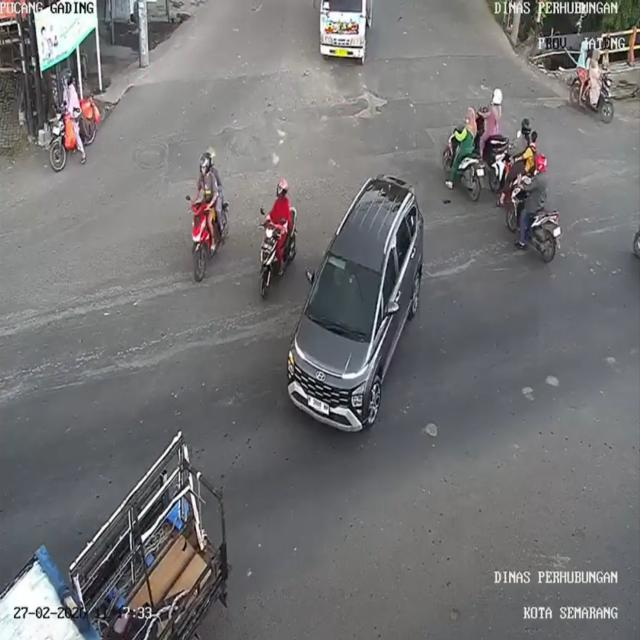motorcycle: (509, 190, 565, 265), (47, 108, 104, 170), (184, 200, 219, 286), (258, 227, 300, 292), (445, 134, 485, 200), (568, 76, 618, 127), (492, 146, 512, 195), (485, 134, 506, 162)
person: (523, 156, 553, 224), (479, 84, 510, 141), (266, 178, 293, 231), (456, 110, 483, 158), (62, 69, 87, 120), (512, 116, 534, 166), (191, 159, 214, 206), (204, 151, 223, 196), (525, 133, 542, 178), (592, 49, 602, 89), (578, 40, 586, 74), (584, 48, 592, 73)
rider_region: (509, 152, 563, 266), (189, 150, 229, 288), (48, 70, 100, 174), (256, 174, 298, 299), (440, 106, 484, 203), (571, 37, 617, 126), (494, 114, 543, 179), (480, 86, 509, 157)
